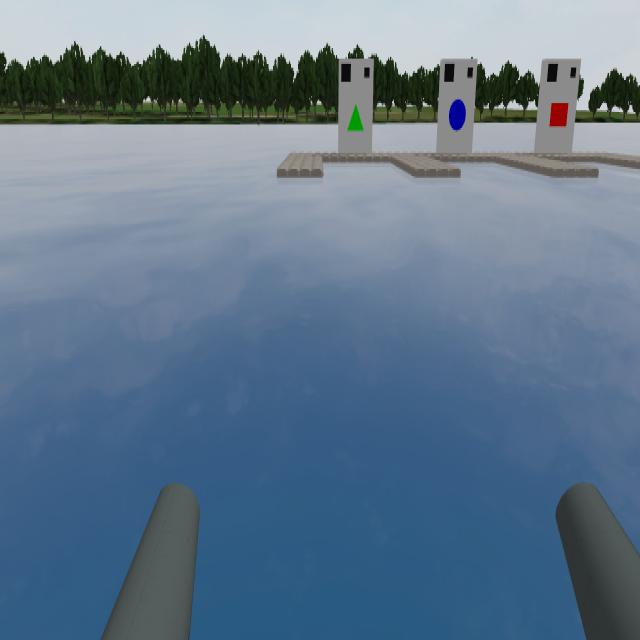dock: (542, 60, 576, 145), (441, 60, 471, 146), (339, 66, 369, 143)
